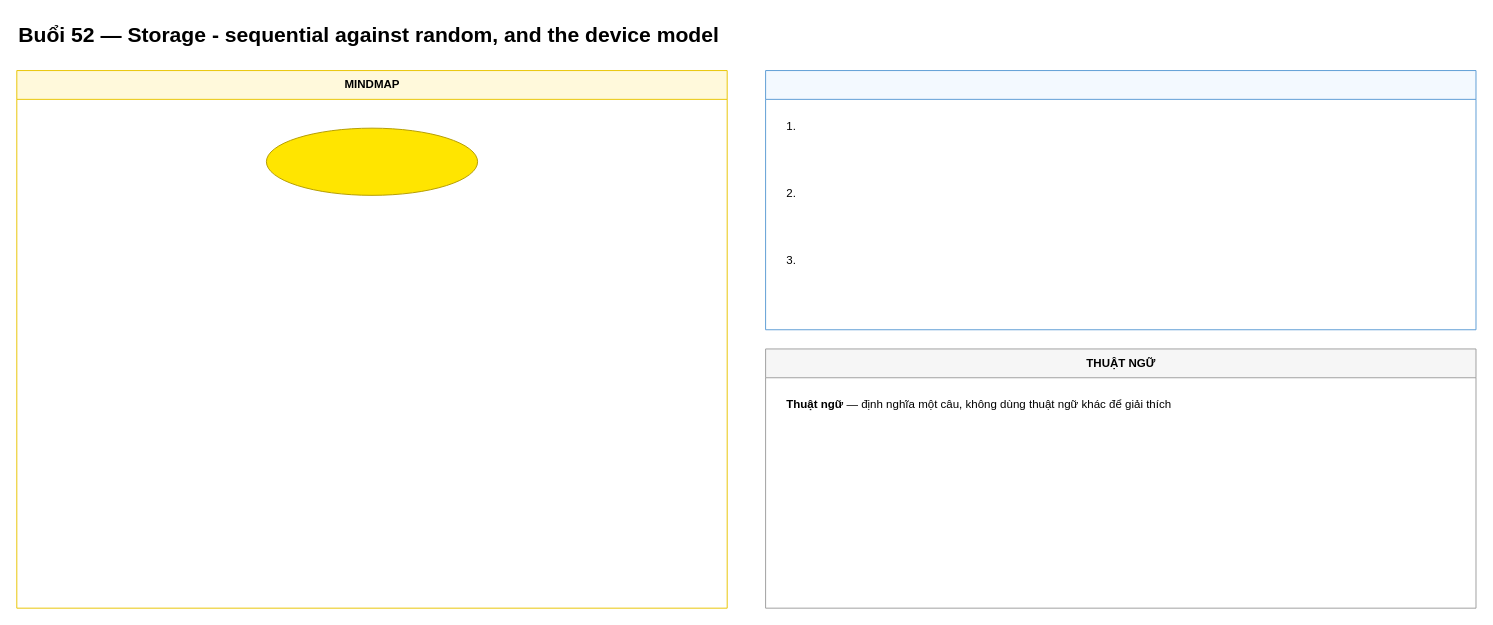
Image size: 1493x625. Some labels were removed from this diagram. Here are the shapes that lost their labels. From the top down, the box of each, then its label:
(265, 127, 478, 195): Storage - sequential against random, and the device model
(765, 70, 1476, 330): KEY TAKEAWAY — ba điều phải nhớ
